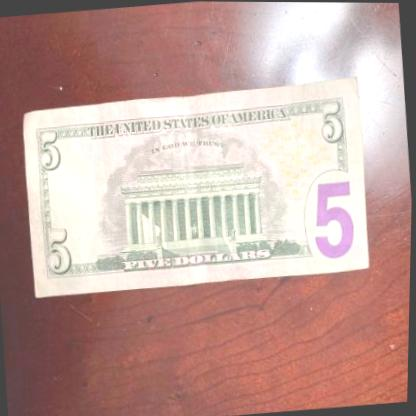five-back: (18, 72, 377, 301)
